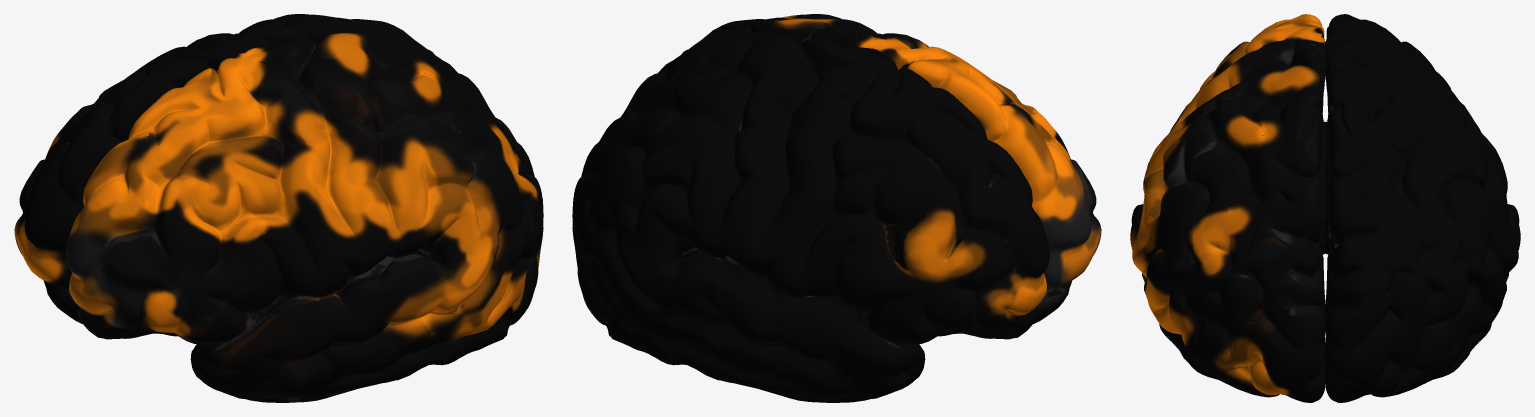
Rendered from worldComp.glb.
3 renders of one model, left to right at view 1: azimuth 30°, elevation 25°; view 2: azimuth 150°, elevation 25°; view 3: azimuth 270°, elevation 25°, orthographic. The views are drawn at different scales.
Parts seen in each view (by area): view 1: Right, Left; view 2: Left, Right; view 3: Left, Right.
Part boxes in pixels (x1,y1,x2,y2): Right: (66, 32, 543, 402); Left: (14, 14, 457, 336); Left: (572, 32, 1049, 402); Right: (658, 14, 1101, 336); Left: (1325, 14, 1520, 402); Right: (1130, 14, 1325, 402).
Bounding box in the file's own units: 1.32 × 0.8372 × 1.06.
Materials: 2 (2 with a texture image).
